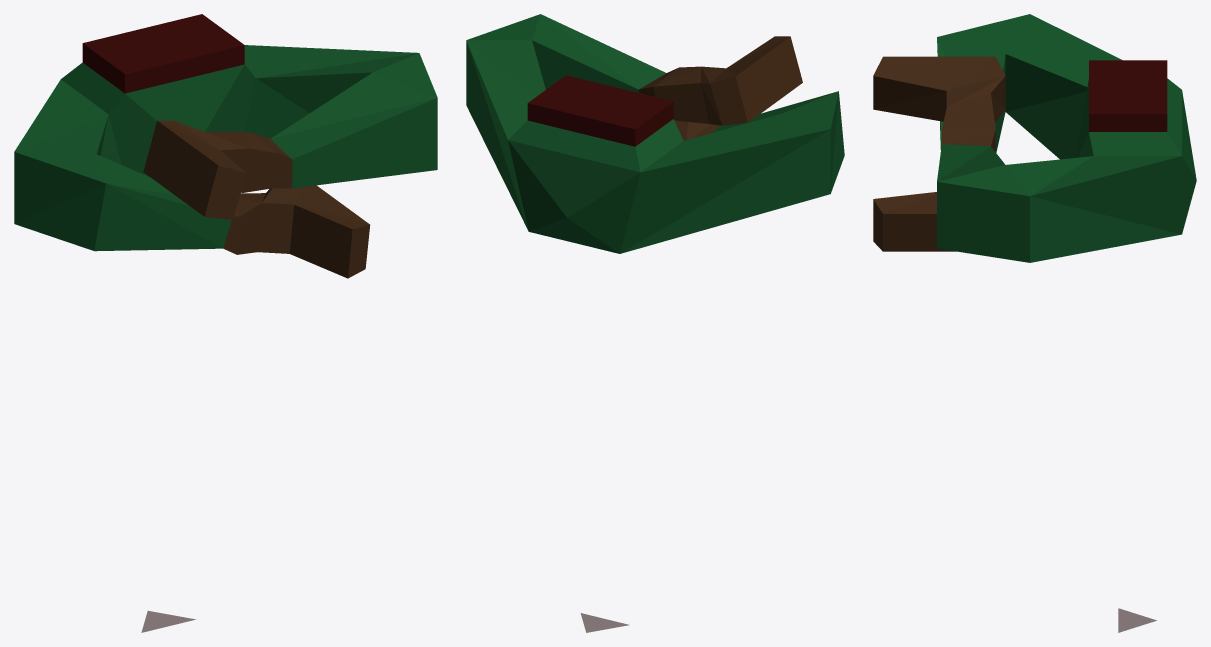
Rendered from model_264_npc.obj.
3 views of the same model, side by side, from view 1: azimuth 30°, elevation 25°; view 2: azimuth 150°, elevation 25°; view 3: azimuth 270°, elevation 25° (orthographic). The views are drawn at different scales.
Visible parts, largest first — view 1: 264; view 2: 264; view 3: 264.
Boxes of the visible parts, x1=… form: 264: x1=14, y1=14, x2=437, y2=632; 264: x1=466, y1=14, x2=844, y2=632; 264: x1=873, y1=14, x2=1196, y2=632.
Size of the model in its own units: 88 by 120 by 66.
